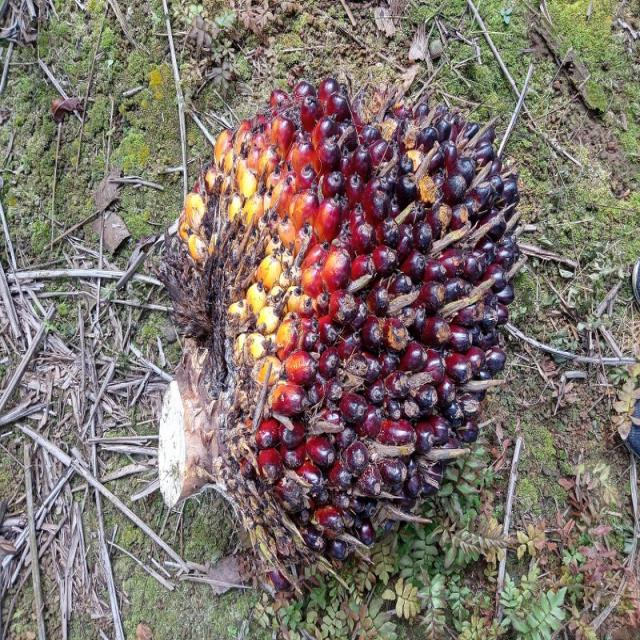fraksi 1: (110, 23, 547, 592)
